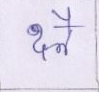au_matra: (60, 9, 75, 54)
